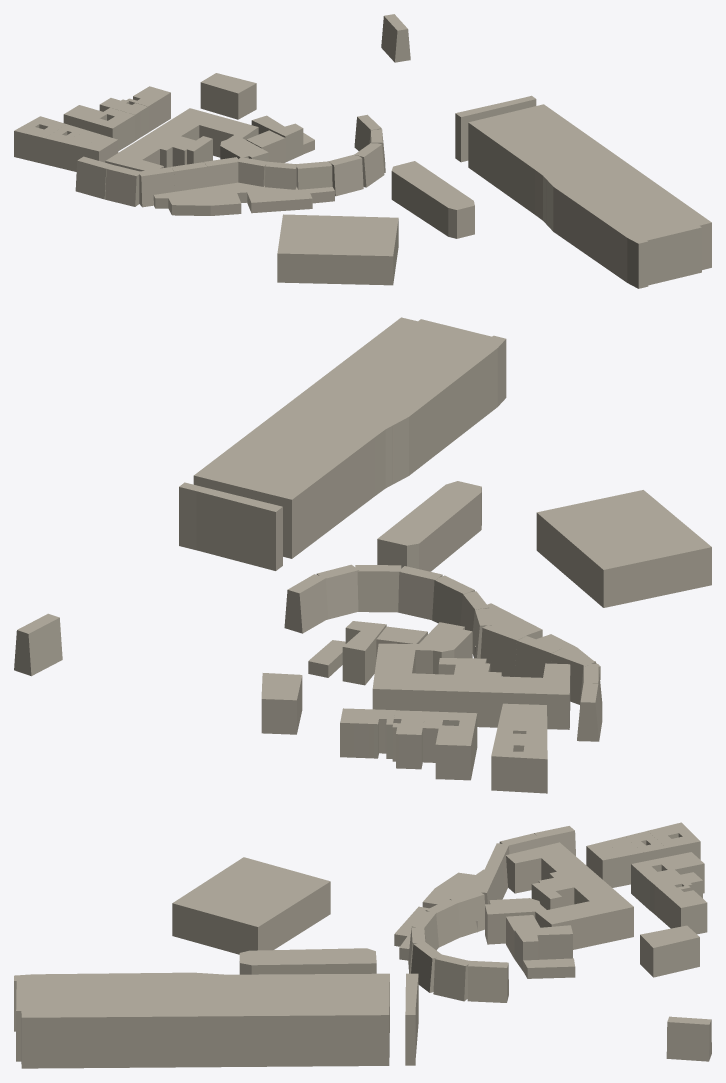
Rendered from senglea_59_28_far.glb.
3 renders of one model, top to bottom at view 1: azimuth 30°, elevation 25°; view 2: azimuth 150°, elevation 25°; view 3: azimuth 270°, elevation 25°, orthographic. The views are drawn at different scales.
Visible parts, largest first — view 1: geometry_0; view 2: geometry_0; view 3: geometry_0.
Boxes of the visible parts, x1,y1,x2,y2 form: geometry_0: (14, 14, 711, 288); geometry_0: (14, 317, 711, 793); geometry_0: (14, 822, 711, 1068).
Bounding box in the file's own units: 164 × 19.47 × 217.
